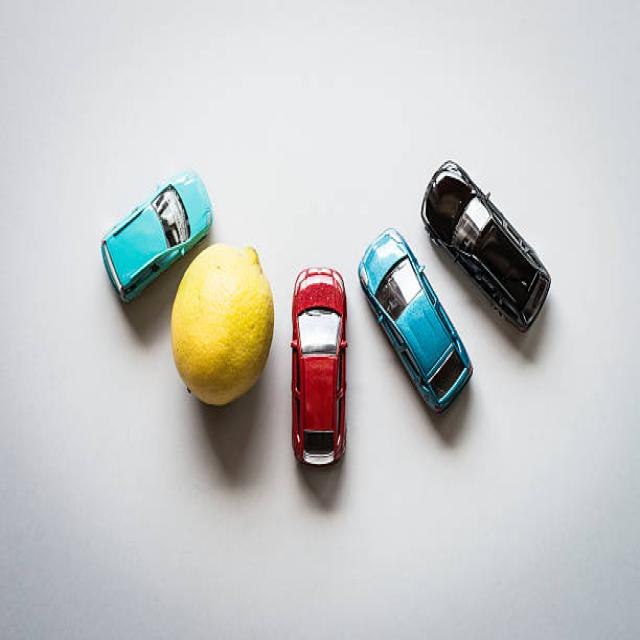Car: (419, 159, 551, 333), (357, 227, 472, 415), (100, 166, 212, 304), (290, 266, 347, 465)
